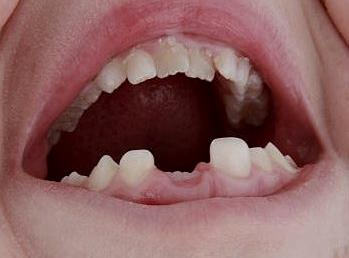Hypodontia: (151, 141, 218, 177)
